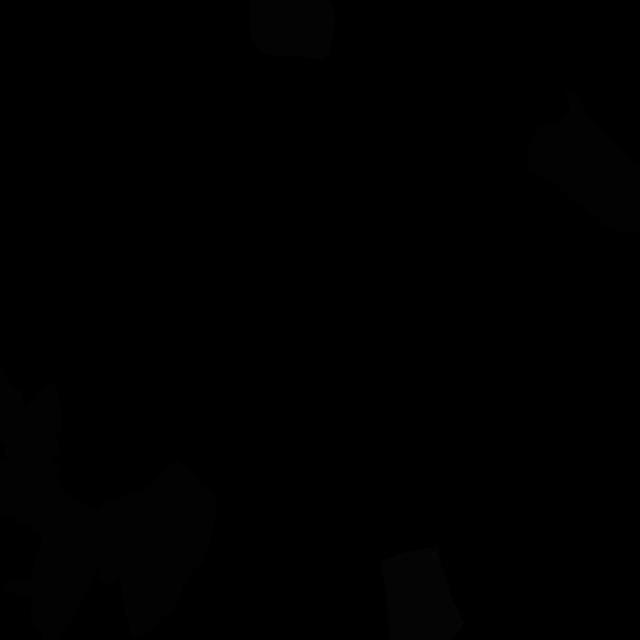cardboard: (0, 367, 217, 640), (527, 90, 640, 233)
metal: (249, 0, 335, 60)
soft_plastic: (381, 546, 464, 640)
